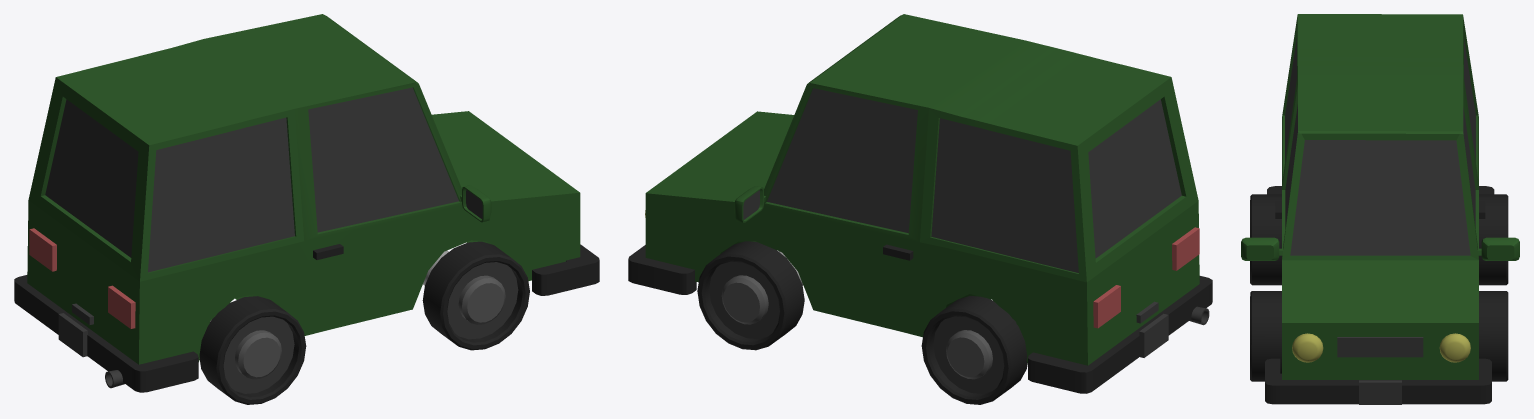
File: car test.fbx
The picture shows the model from 3 angles, left to right: view 1: azimuth 30°, elevation 25°; view 2: azimuth 150°, elevation 25°; view 3: azimuth 270°, elevation 25°; orthographic projection. The views are drawn at different scales.
Parts seen in each view (by area): view 1: pCube16, pCylinder45, pCylinder46, pCube22, pCube24, pCube23, pCube20, pCube19, pCube27; view 2: pCube16, pCylinder37, pCylinder44, pCube22, pCube24, pCube23, pCube19, pCube20, pCube27; view 3: pCube16, pCube24, pCylinder45, pCylinder37, pCylinder46, pCylinder44, pCube27, pCube26, pCube25, pCylinder43, pCylinder42, pCube22.
Part boxes in pixels (x1,y1,x2,y2): pCube16: (27, 14, 580, 364); pCylinder45: (422, 241, 529, 350); pCylinder46: (199, 296, 306, 404); pCube22: (14, 275, 198, 392); pCube24: (532, 244, 599, 295); pCube23: (58, 313, 87, 357); pCube20: (29, 228, 56, 271); pCube19: (108, 285, 135, 328); pCube27: (460, 185, 491, 222); pCube16: (645, 14, 1199, 365); pCylinder37: (697, 241, 804, 350); pCylinder44: (921, 296, 1027, 404); pCube22: (1028, 276, 1212, 393); pCube24: (628, 245, 696, 294); pCube23: (1139, 313, 1168, 357); pCube19: (1172, 227, 1199, 270); pCube20: (1093, 285, 1120, 328); pCube27: (734, 186, 765, 222); pCube16: (1282, 14, 1478, 379); pCube24: (1265, 358, 1491, 404); pCylinder45: (1250, 291, 1281, 381); pCylinder37: (1479, 291, 1508, 381); pCylinder46: (1250, 194, 1281, 285); pCylinder44: (1479, 194, 1508, 285); pCube27: (1241, 237, 1519, 260); pCube26: (1337, 337, 1423, 357); pCube25: (1359, 380, 1401, 404); pCylinder43: (1292, 333, 1323, 362); pCylinder42: (1439, 333, 1470, 362); pCube22: (1267, 186, 1494, 194).
Size of the model in its own units: 25.94 by 13.73 by 14.98.
